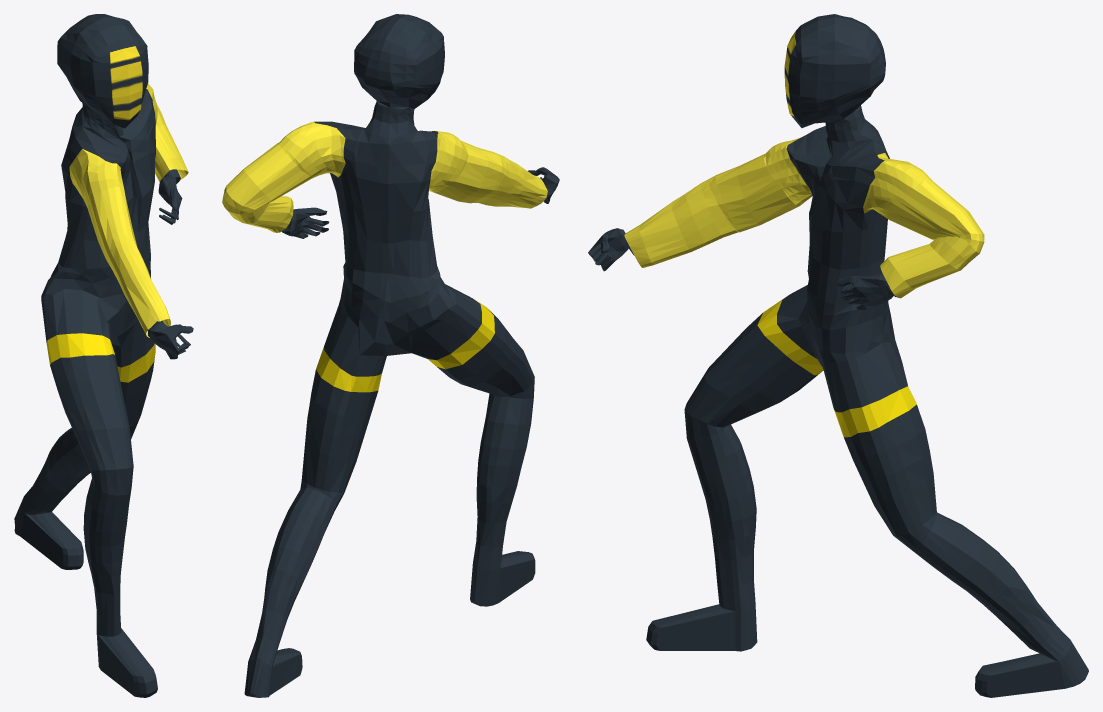
Rendered from Sentry_WB_000001.obj.
3 views of the same model, side by side, from view 1: azimuth 30°, elevation 25°; view 2: azimuth 150°, elevation 25°; view 3: azimuth 270°, elevation 25° (orthographic). The views are drawn at different scales.
Parts seen in each view (by area): view 1: Cube; view 2: Cube; view 3: Cube.
Part boxes in pixels (left/top/right/bottom): Cube: left=14, top=14, right=193, bottom=697; Cube: left=222, top=14, right=559, bottom=697; Cube: left=588, top=14, right=1088, bottom=697.
Size of the model in its own units: 1.18 by 3.62 by 2.51.
